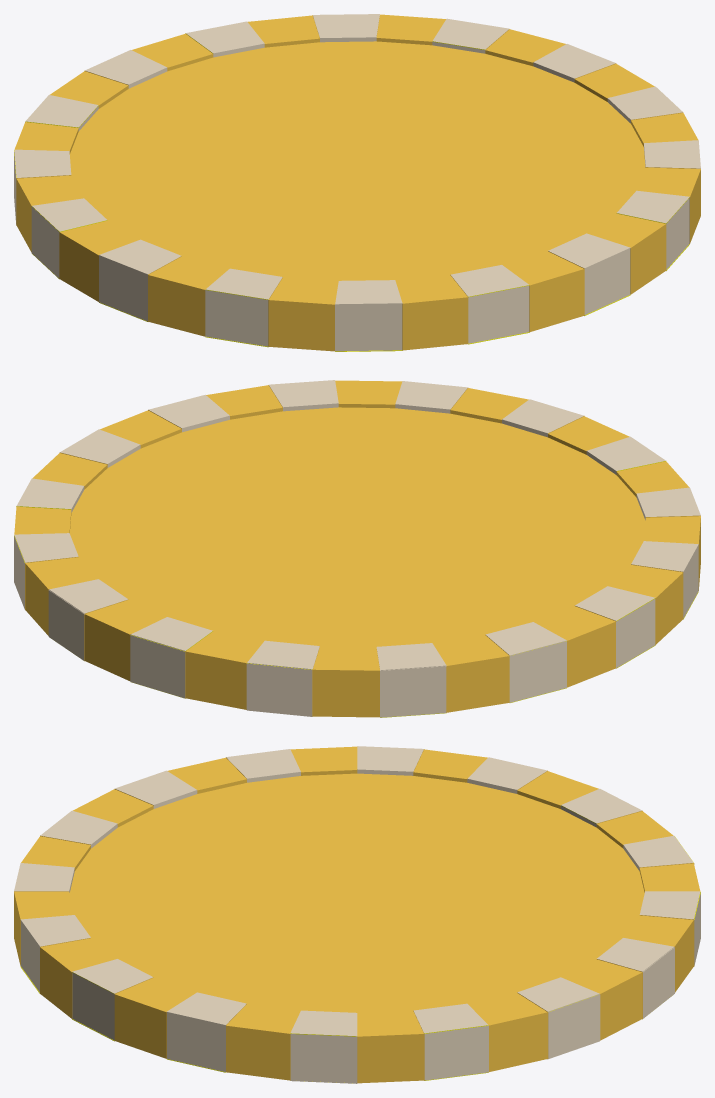
The model's file is moneda.fbx.
3 renders of one model, top to bottom at view 1: azimuth 30°, elevation 25°; view 2: azimuth 150°, elevation 25°; view 3: azimuth 270°, elevation 25°, orthographic.
Parts seen in each view (by area): view 1: Cylinder; view 2: Cylinder; view 3: Cylinder.
Part boxes in pixels (x1,y1,x2,y2): Cylinder: (14, 14, 700, 351); Cylinder: (14, 380, 700, 717); Cylinder: (14, 746, 700, 1083).
Size of the model in its own units: 200 by 15.32 by 200.
Materials: 1 (1 with a texture image).
